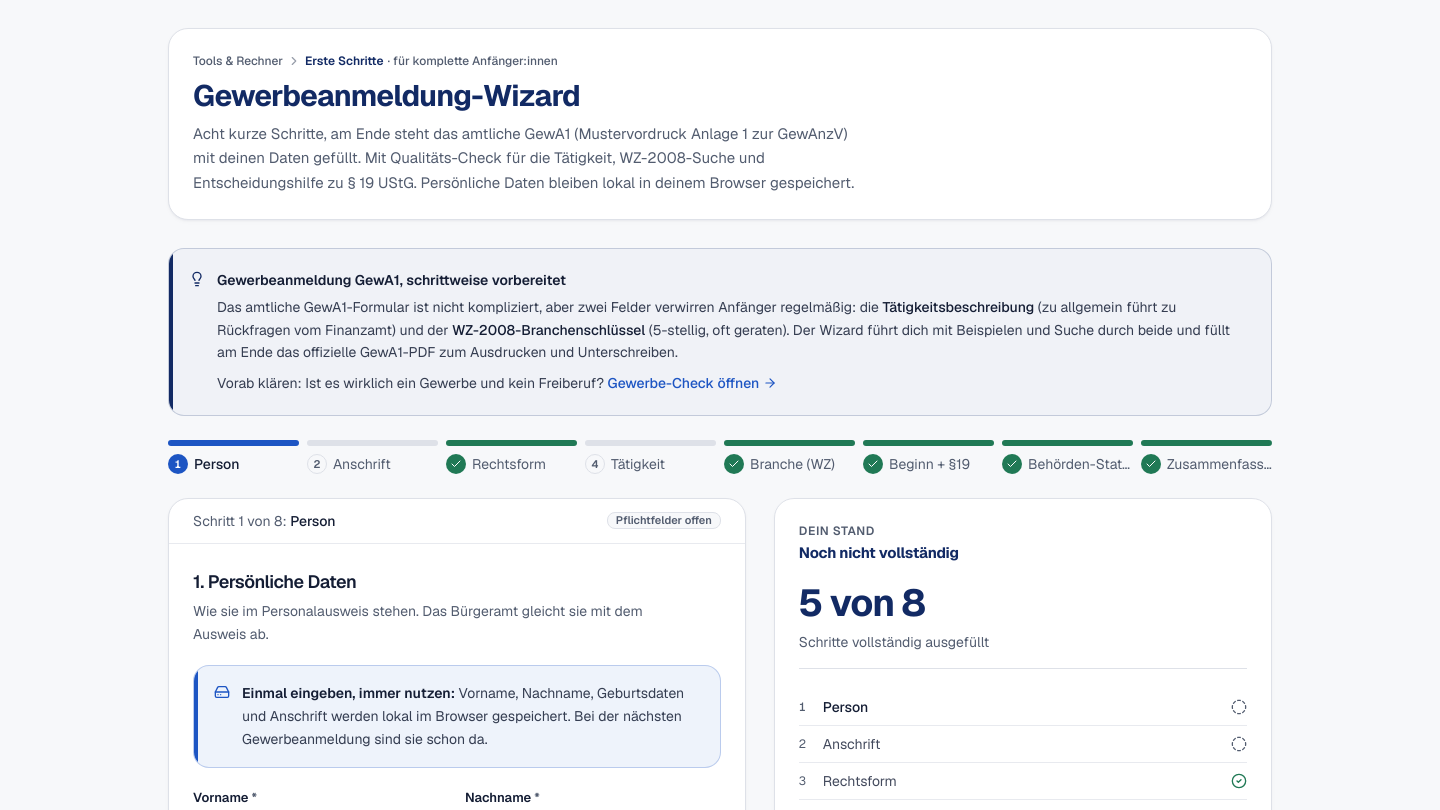
GewerbeanmeldungWizard — PDF + Speichern › Zusammenfassung listet fehlende Steps
Step 1. Click the button "Zusammenfassung" → click(1206, 457), box top-left (1141, 440), bottom-right (1272, 474)
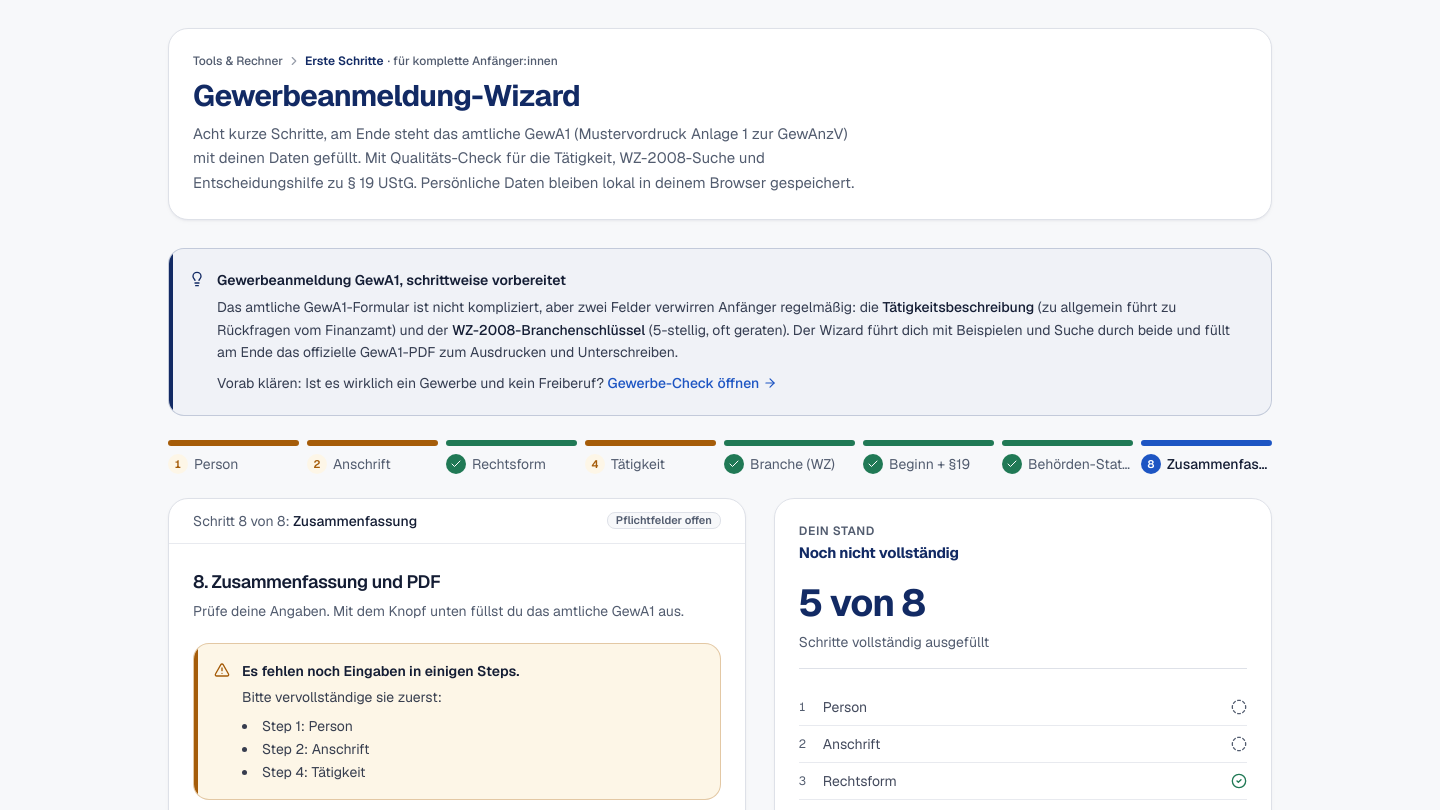
expect the text "Es fehlen noch Eingaben" is shown: met, box top-left (242, 662), bottom-right (519, 680)
